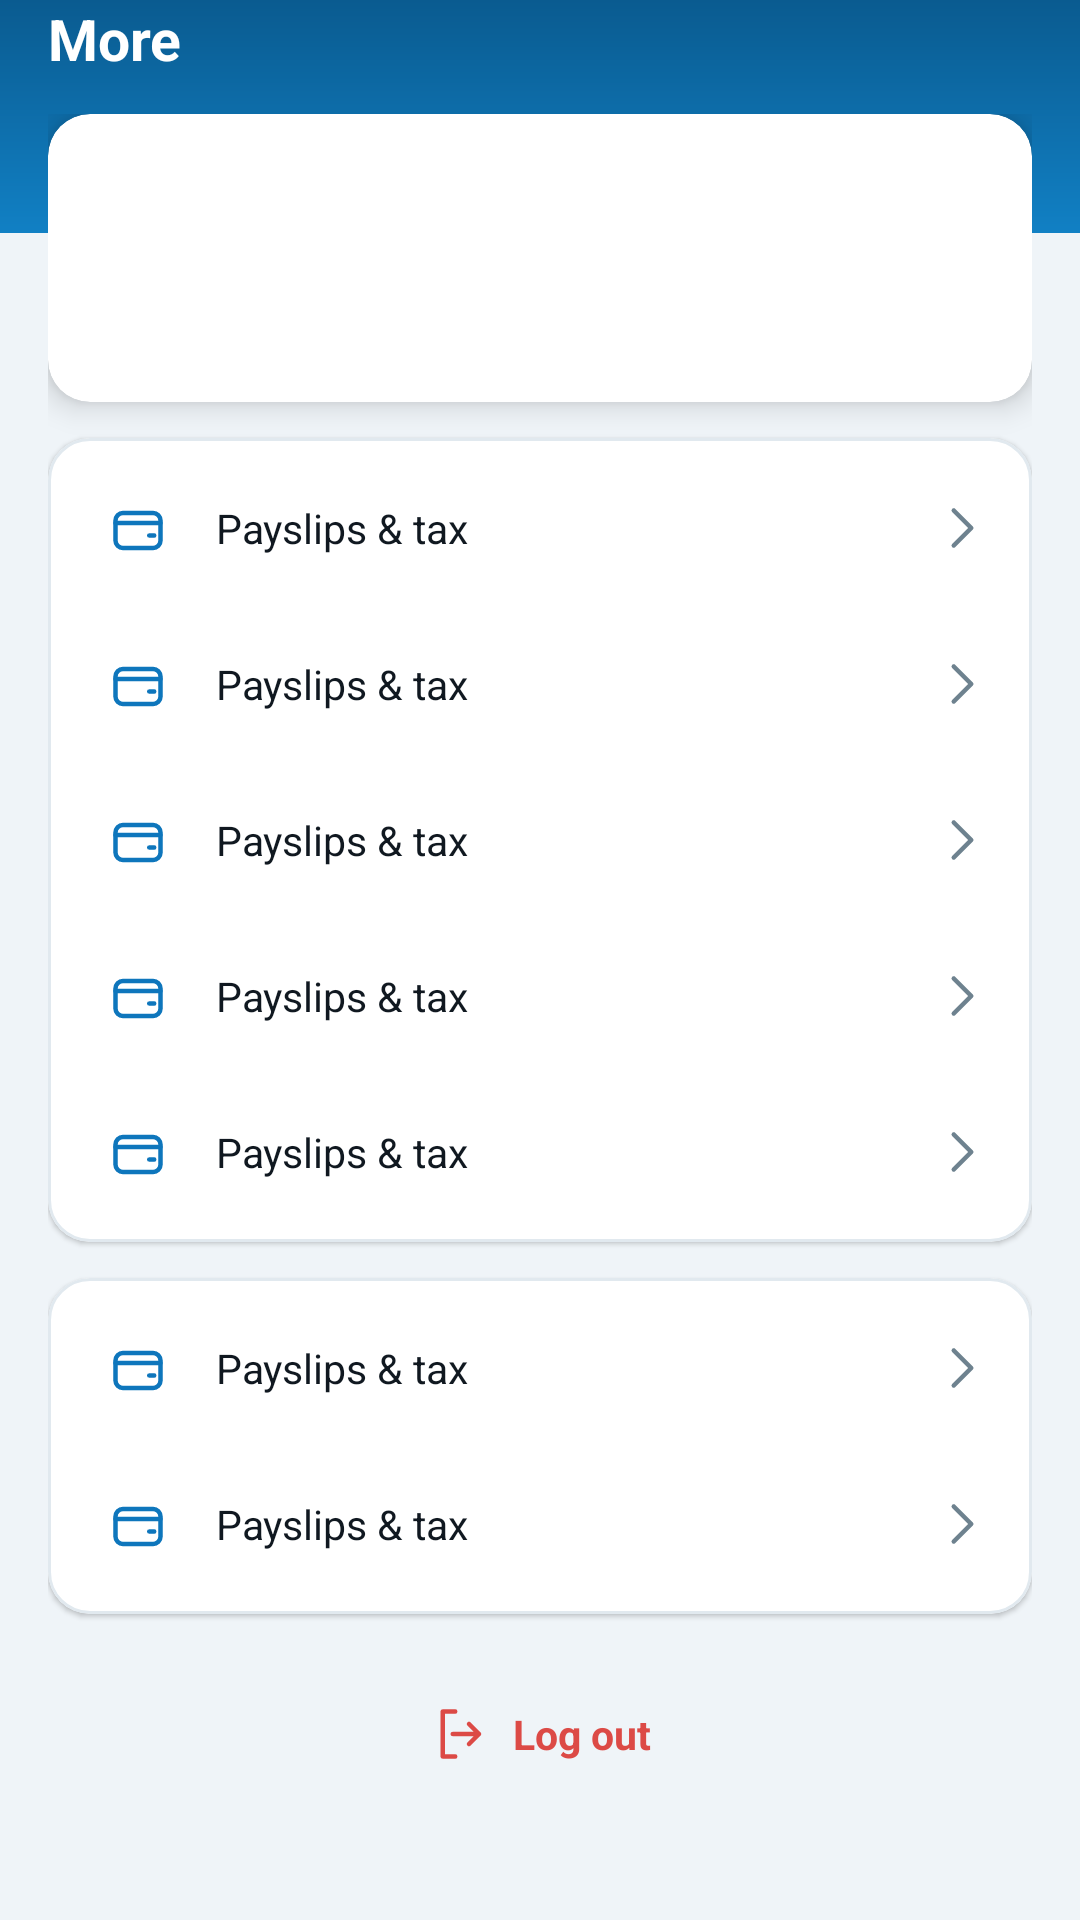

Screen size 1080×1920. Icon name, then its box in pixels as [left=x1, top=y1, right=x2, bottom=y2]:
chevron right: [left=951, top=508, right=974, bottom=548], [left=951, top=664, right=974, bottom=704], [left=951, top=820, right=974, bottom=860], [left=951, top=976, right=974, bottom=1016], [left=951, top=1132, right=974, bottom=1172], [left=951, top=1348, right=974, bottom=1388], [left=951, top=1504, right=974, bottom=1544]
